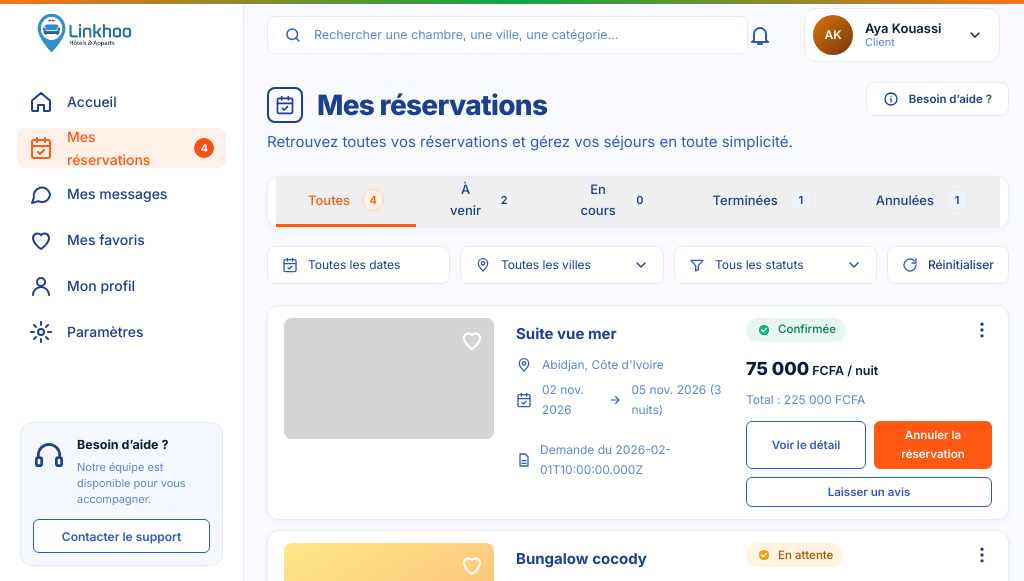
it: ClientComptePage — annulation › annule la réservation confirmée après confirmation
Click the button "Annuler la réservation" below "225 000".
click(933, 445)  # box left=874, top=421, right=992, bottom=469
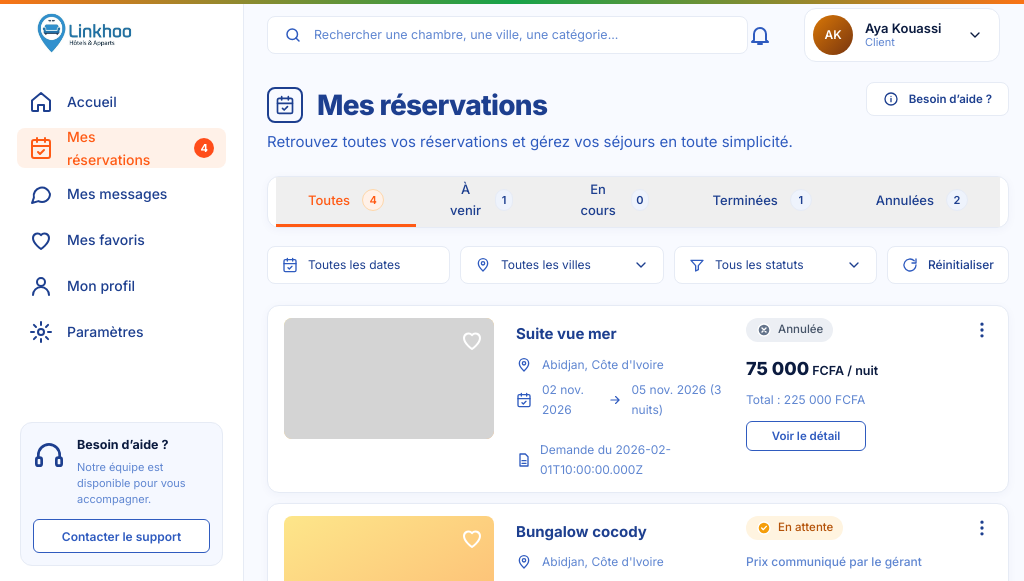
Expected: the text "Annulée" next to "Suite vue mer" is shown, left=778, top=322, right=823, bottom=336
